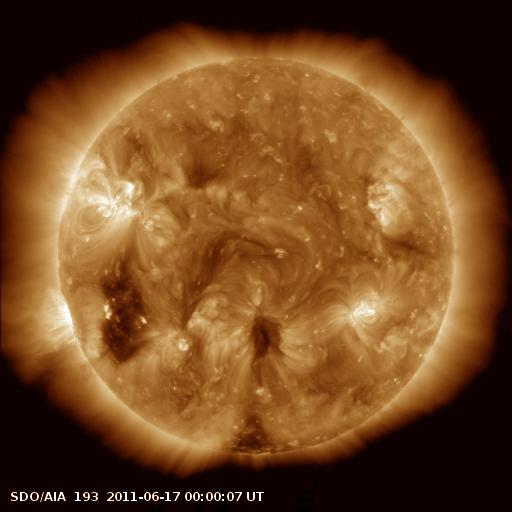coronal_hole: (90, 268, 160, 368), (218, 411, 287, 459)
